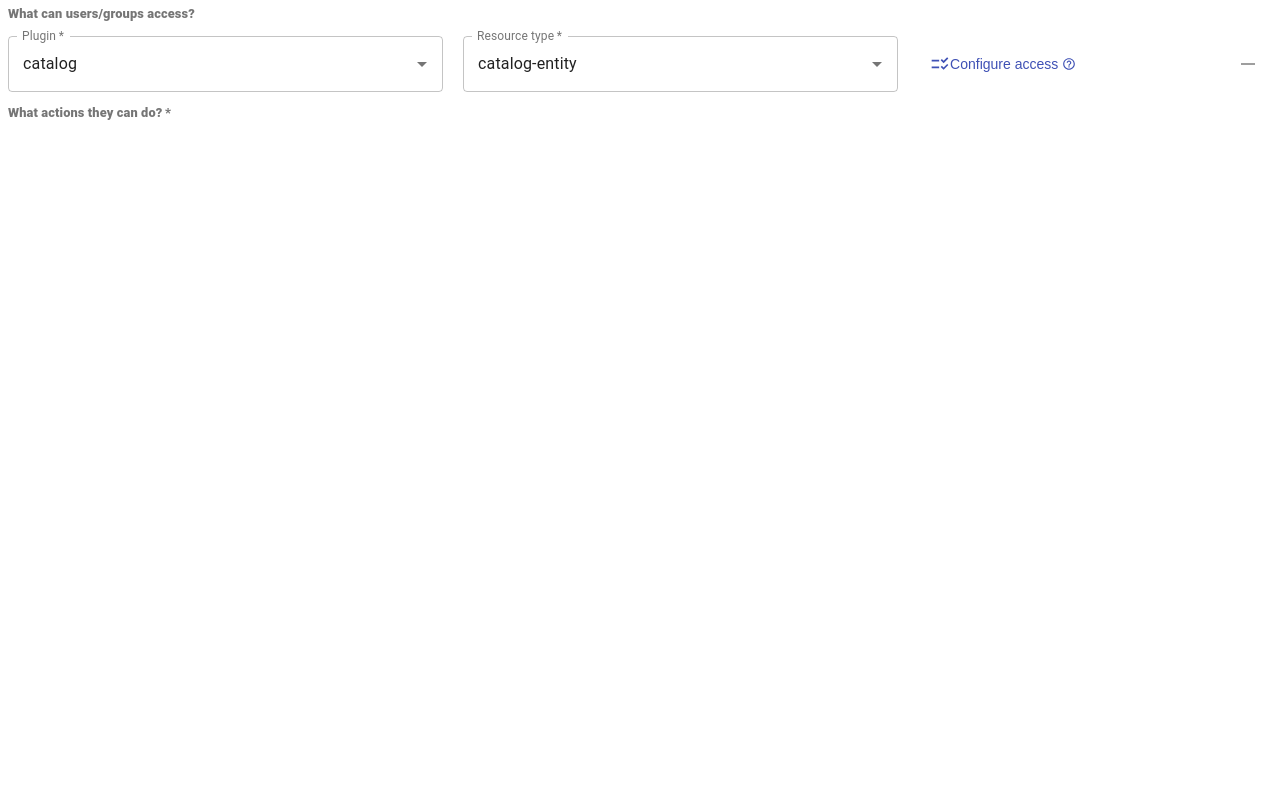
PermissionPoliciesFormRow › opens sidebar on clicking conditional access button
The image size is (1280, 800).
Click the button with aria-label "configure-access" at (1003, 64), box [918,42,1088,86]
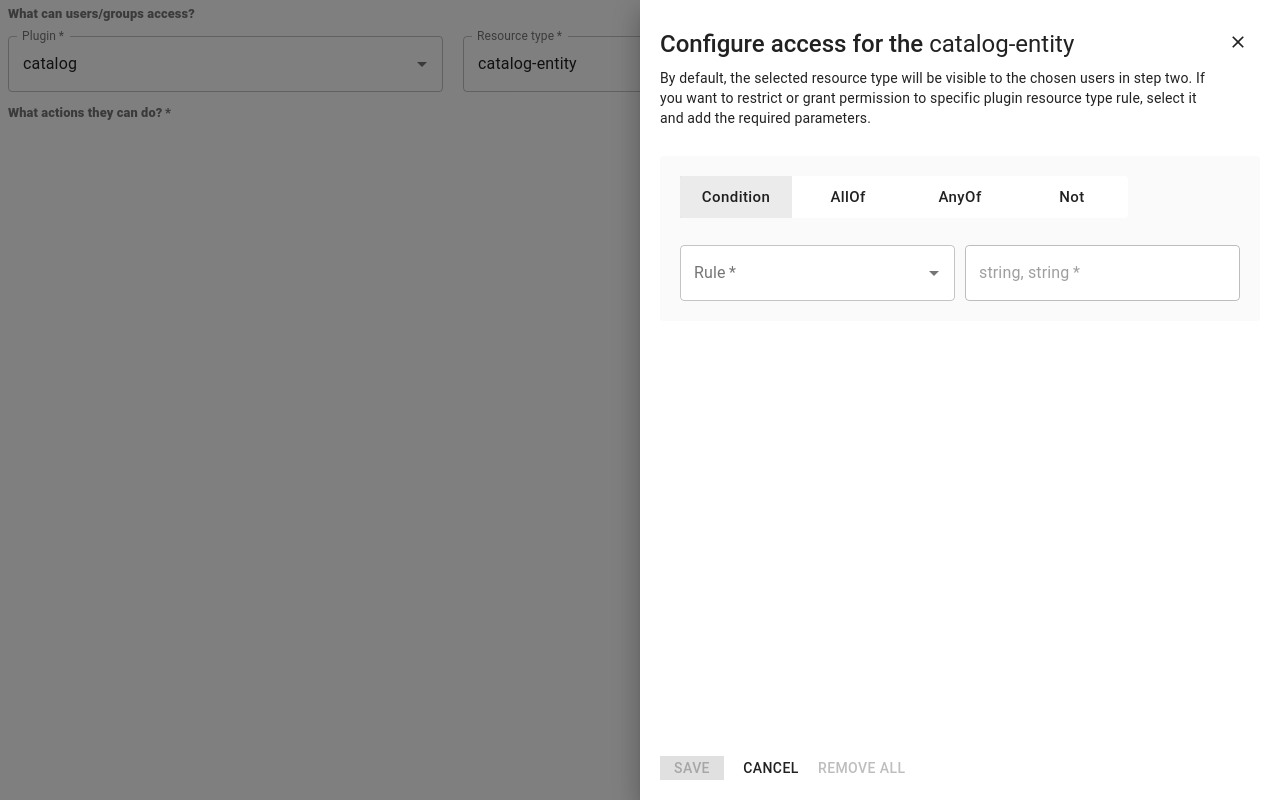
Expected: the element with test id "rules-sidebar" is shown
